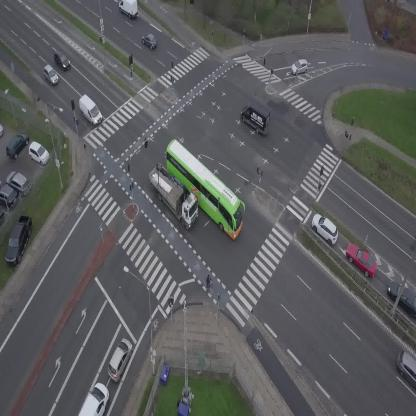bicycle: (203, 274, 215, 295)
bus: (153, 133, 256, 242)
car: (341, 238, 383, 282), (103, 336, 137, 384), (306, 209, 344, 247), (76, 381, 117, 416), (396, 351, 416, 388), (38, 63, 61, 87), (50, 49, 73, 72), (138, 30, 160, 52), (289, 58, 310, 76)
lorry: (141, 160, 209, 231), (236, 98, 277, 137), (73, 93, 107, 127), (119, 0, 138, 19)
